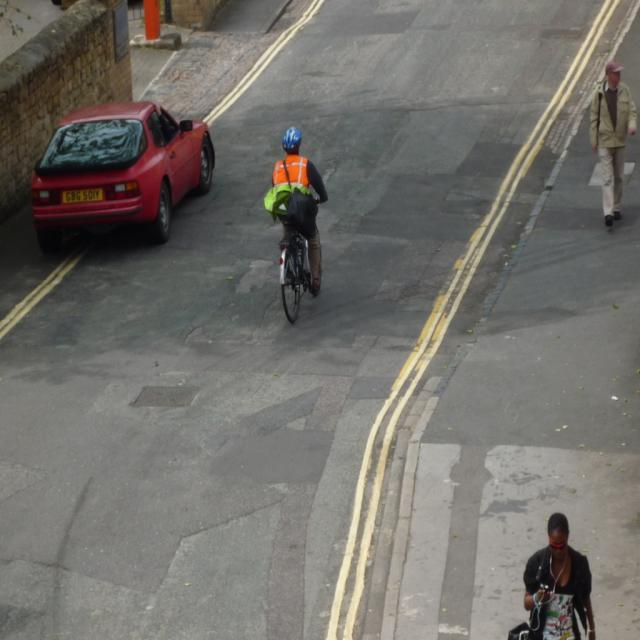car: (25, 94, 216, 238)
